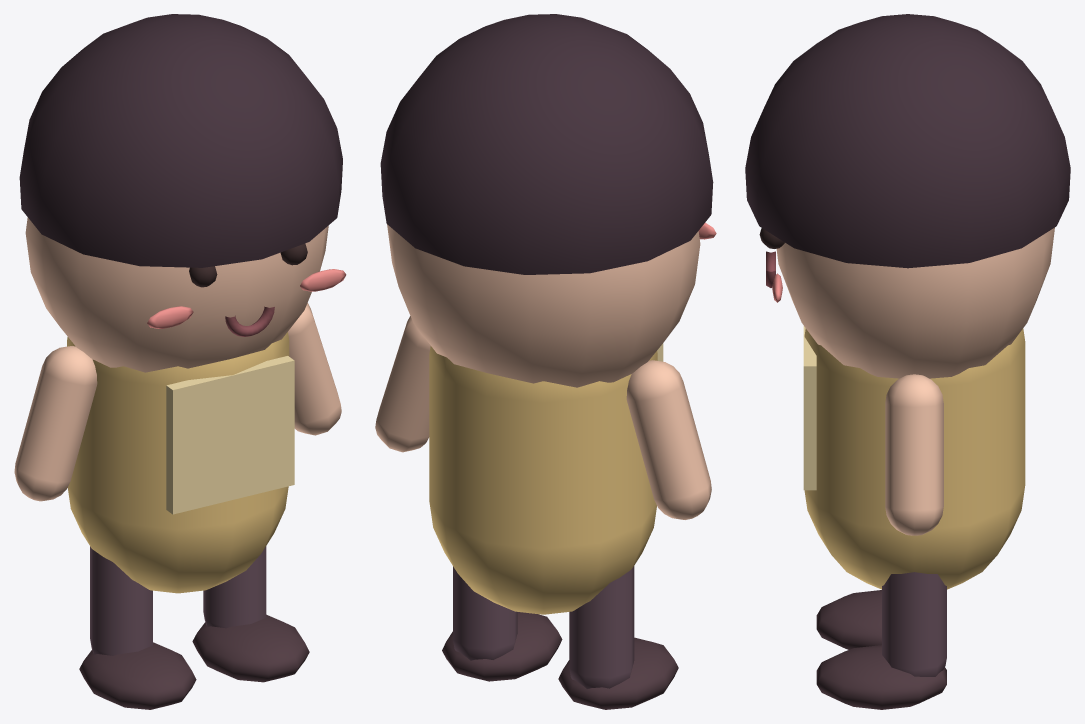
File: customer-cute-03.glb
3 renders of one model, left to right at view 1: azimuth 30°, elevation 25°; view 2: azimuth 150°, elevation 25°; view 3: azimuth 270°, elevation 25°, orthographic. The views are drawn at different scales.
Bounding box in the file's own units: 1.13 × 2.18 × 0.9983.
